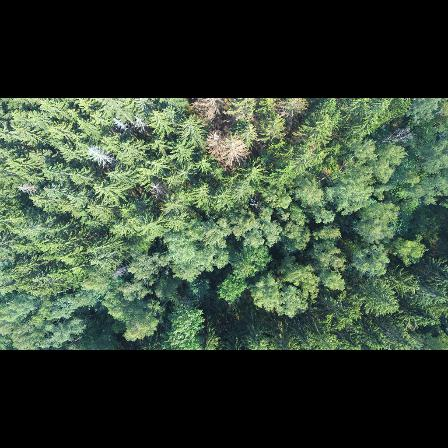Dead: (207, 130, 252, 172), (84, 143, 116, 168), (14, 181, 41, 199), (147, 177, 168, 199), (112, 261, 129, 281), (114, 116, 130, 135)
